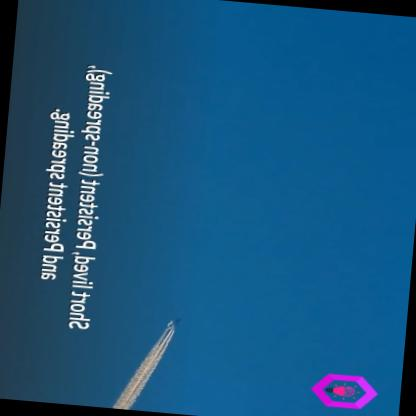plane: (167, 313, 187, 333)
